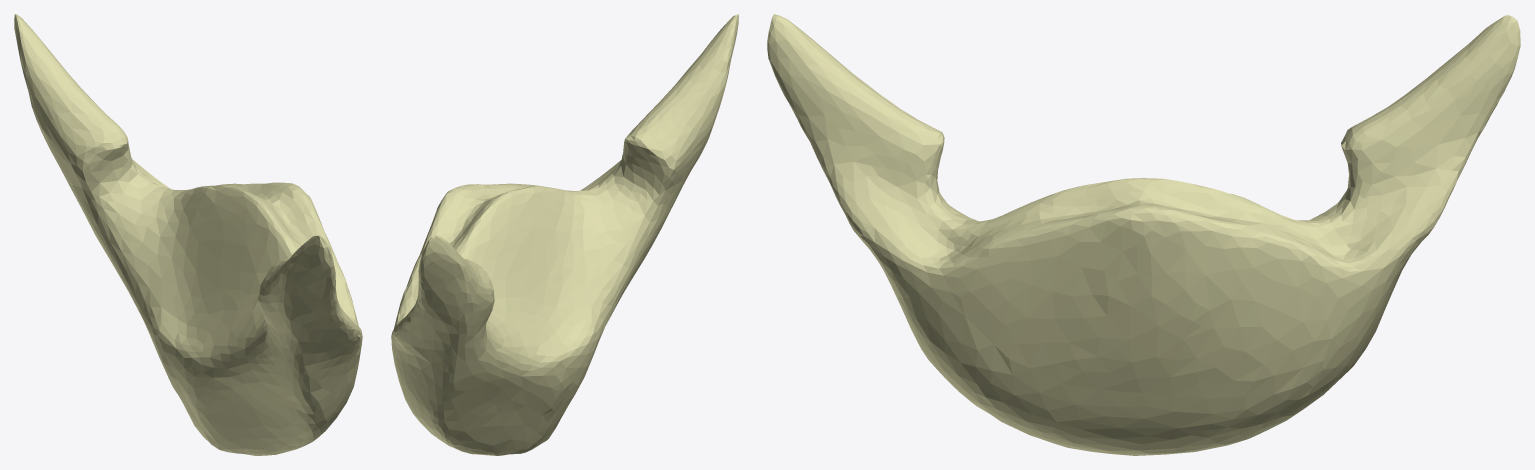
3 views of the same model, side by side, from view 1: azimuth 30°, elevation 25°; view 2: azimuth 150°, elevation 25°; view 3: azimuth 270°, elevation 25° (orthographic). The views are drawn at different scales.
Visible parts, largest first — view 1: 984.obj; view 2: 984.obj; view 3: 984.obj.
Boxes of the visible parts, x1,y1,x2,y2 form: 984.obj: [14, 14, 362, 455]; 984.obj: [391, 14, 738, 455]; 984.obj: [767, 14, 1520, 455].
Bounding box in the file's own units: 1196 × 2536 × 4286.
